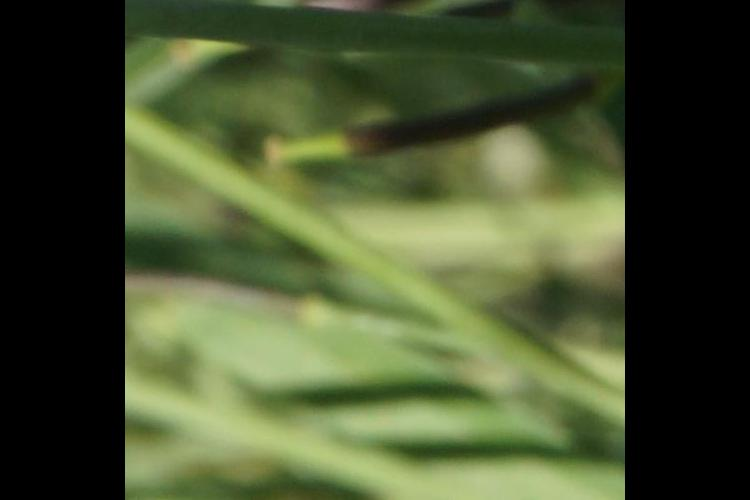pod: (260, 97, 590, 192), (288, 1, 518, 31)
